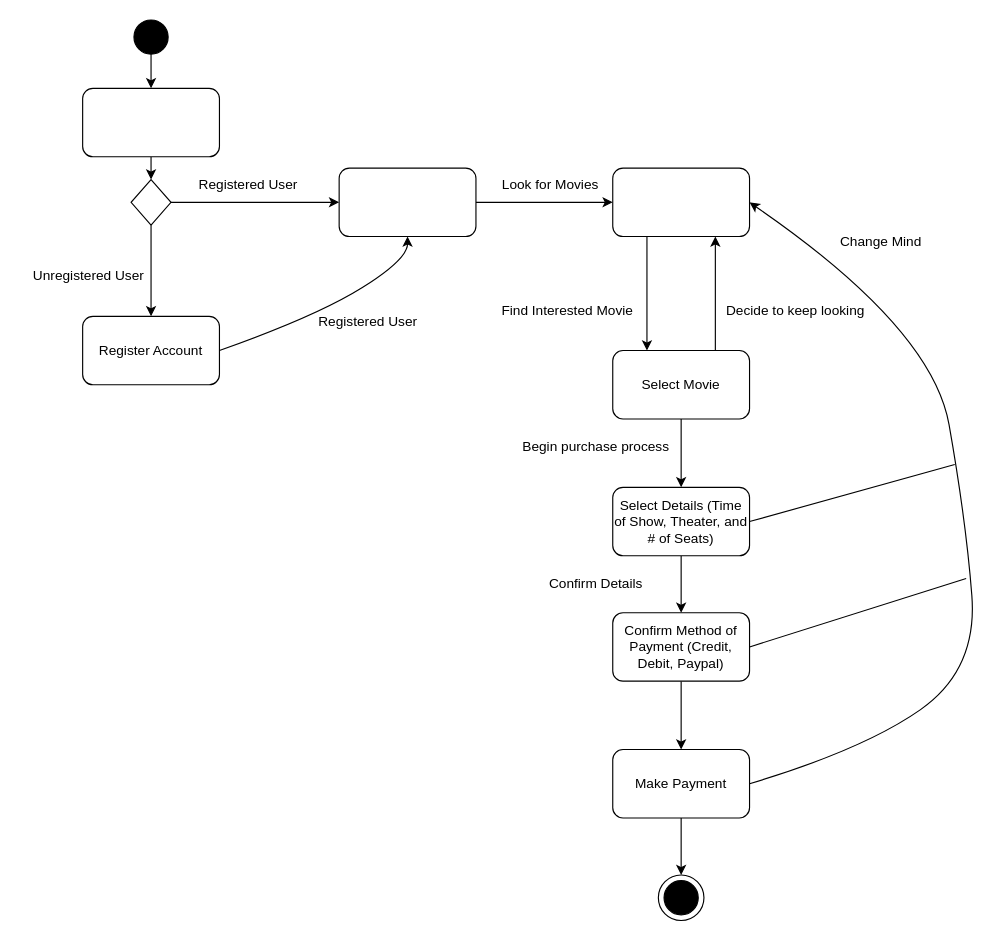
Some shapes in this 992 by 941 pixel diagram are drawn without their labels. Each missing label, with the box of its shape:
Browse Movies: (612, 167, 750, 237)
Login: (338, 167, 476, 237)
Welcome Page Idle: (82, 87, 219, 157)
